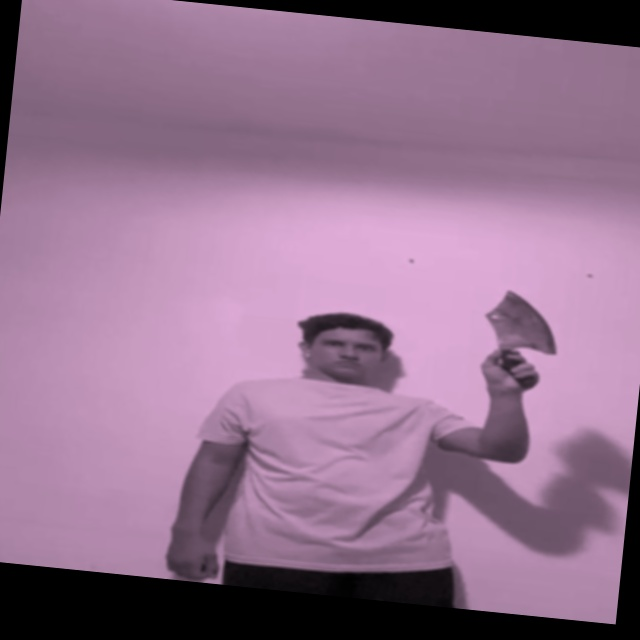Sharp-Object: (477, 287, 567, 356)
